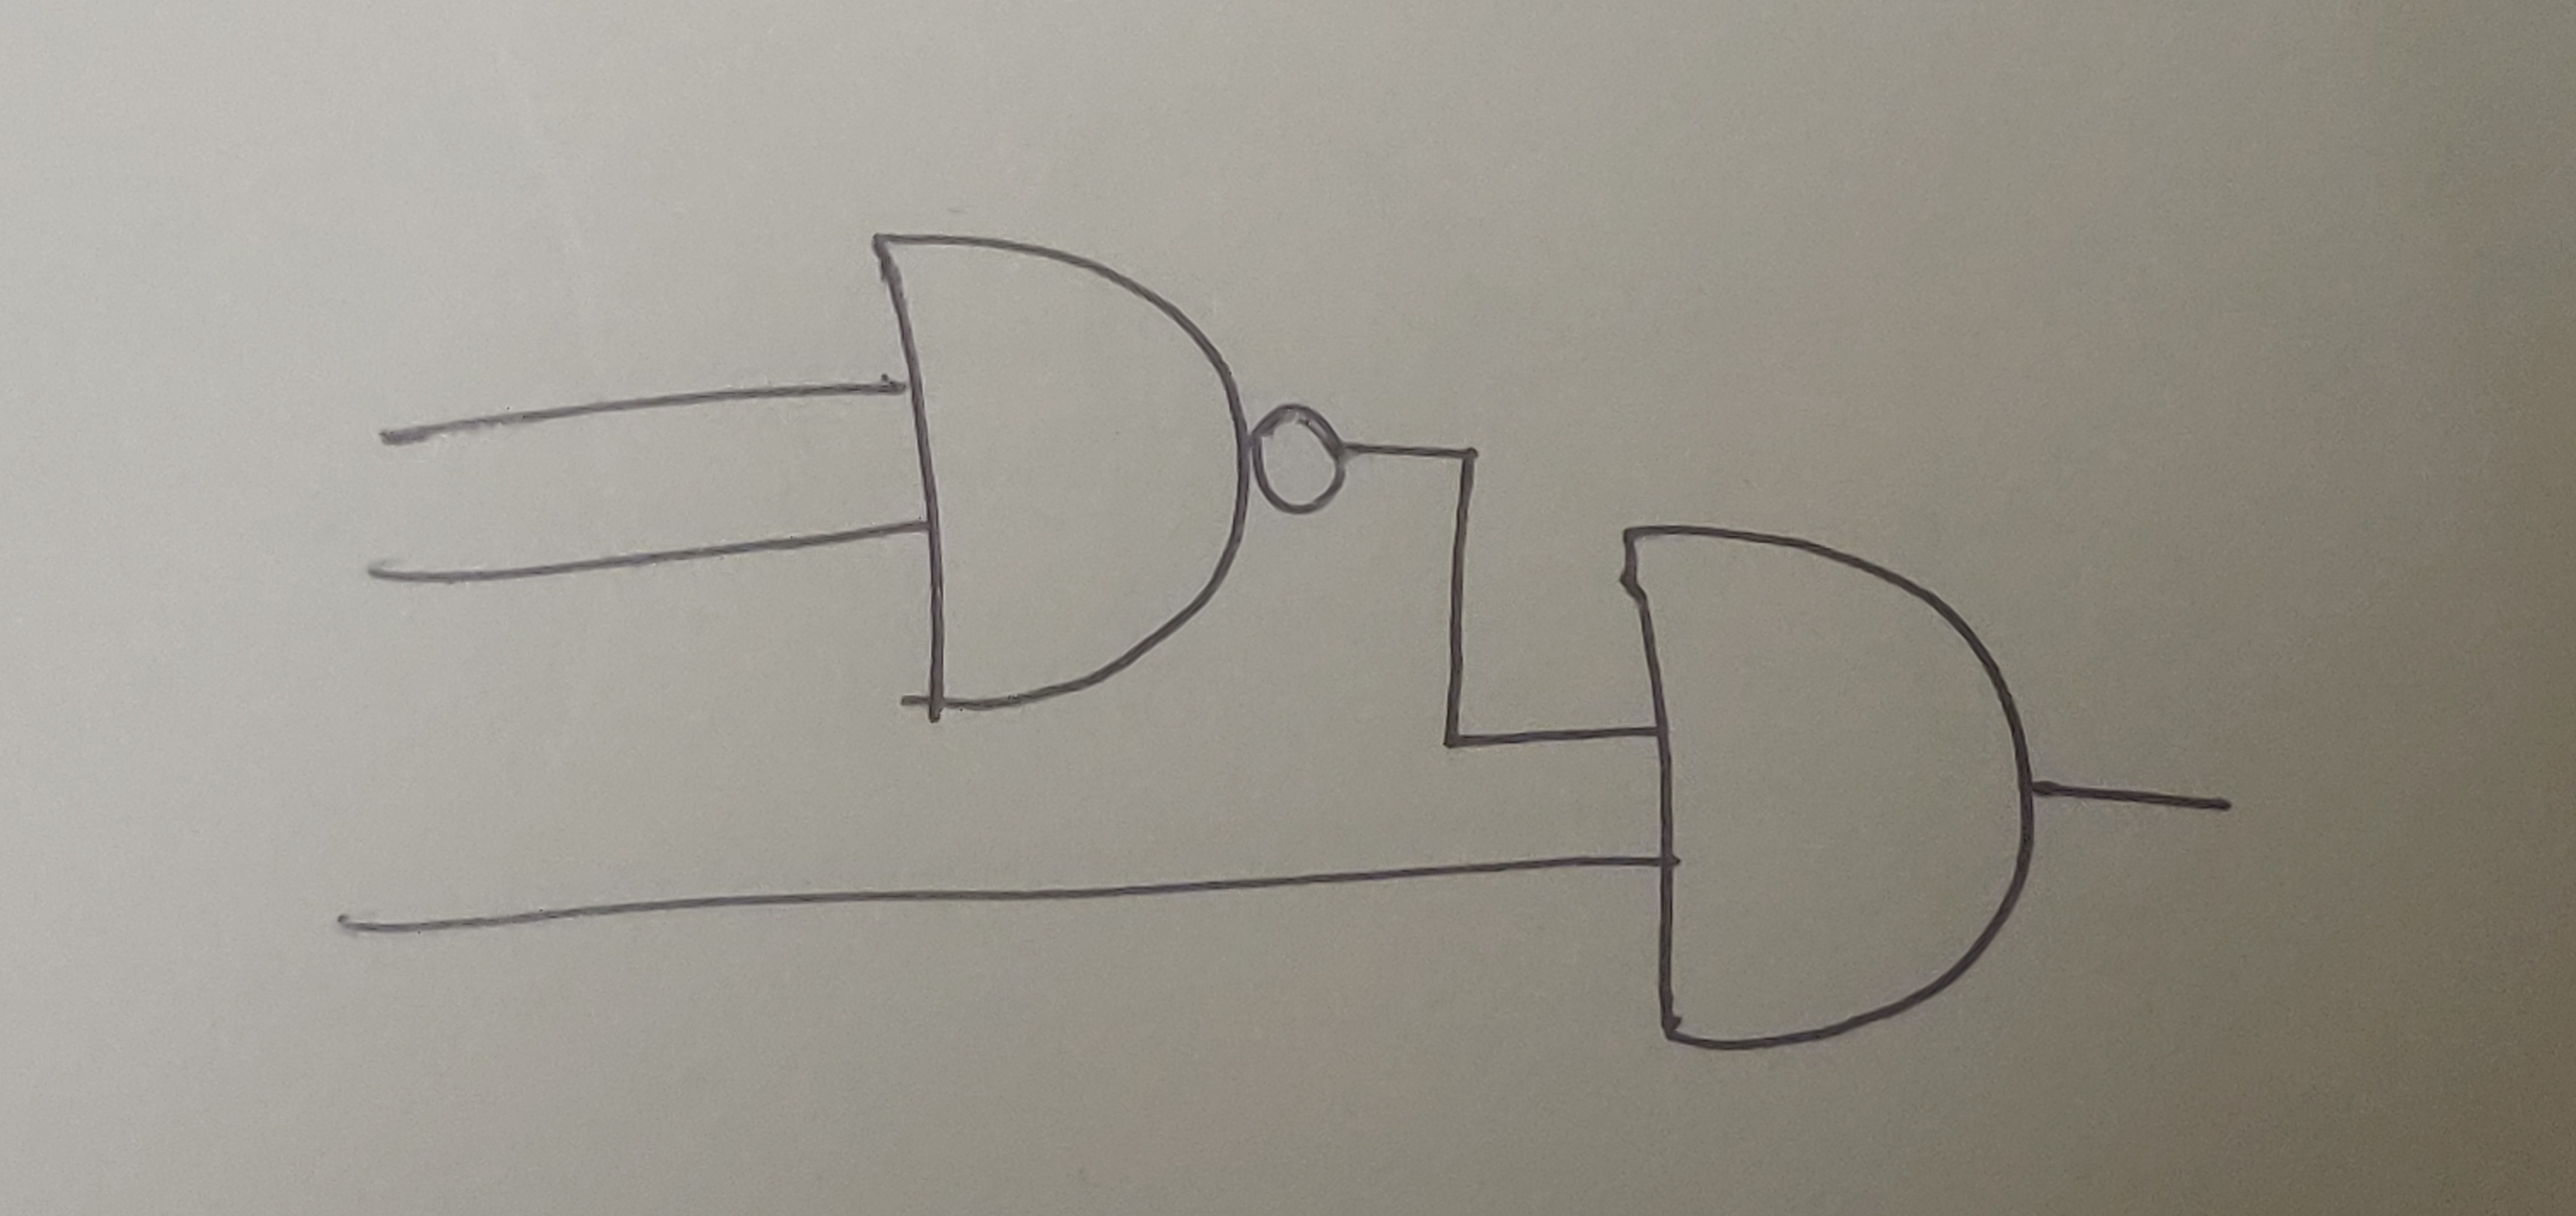and: (1617, 516, 2044, 1055), (864, 223, 1252, 710)
not: (1245, 401, 1357, 516)
